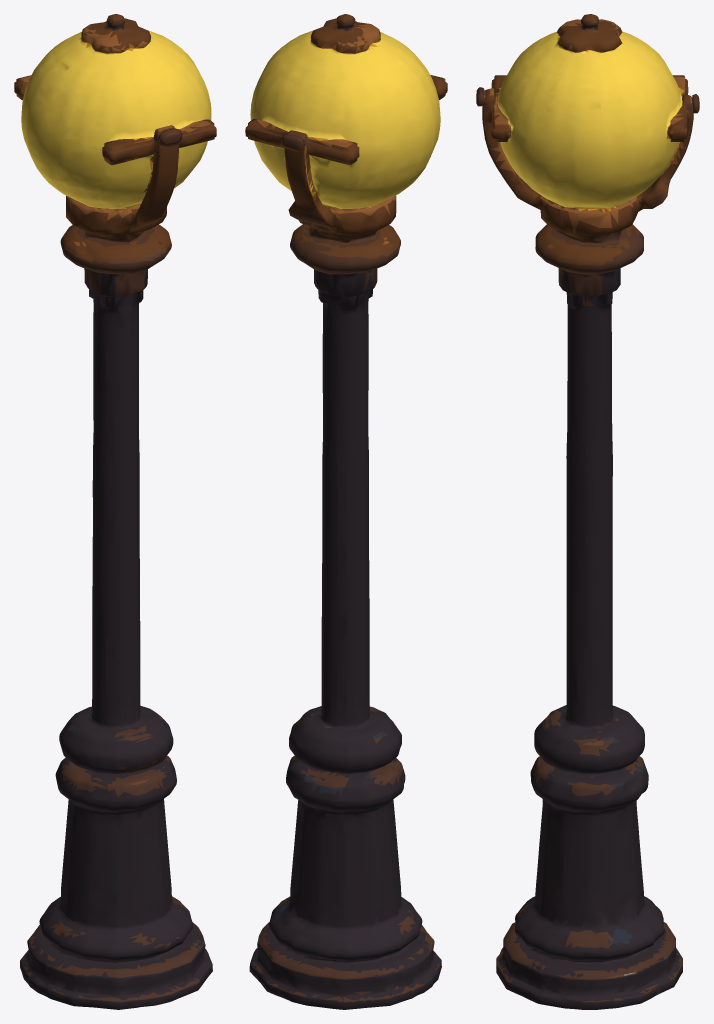
File: SM_street_lamp.glb
3 views of the same model, side by side, from view 1: azimuth 30°, elevation 25°; view 2: azimuth 150°, elevation 25°; view 3: azimuth 270°, elevation 25° (orthographic).
Visible parts, largest first — view 1: SM_street_lamp; view 2: SM_street_lamp; view 3: SM_street_lamp.
Boxes of the visible parts, box(x1,y1,x2,y2) form: SM_street_lamp: box(14, 14, 216, 1009); SM_street_lamp: box(245, 14, 447, 1009); SM_street_lamp: box(476, 14, 699, 1009).
Size of the model in its own units: 0.4724 by 2.6 by 0.5512.
1 material, 1 textured.
